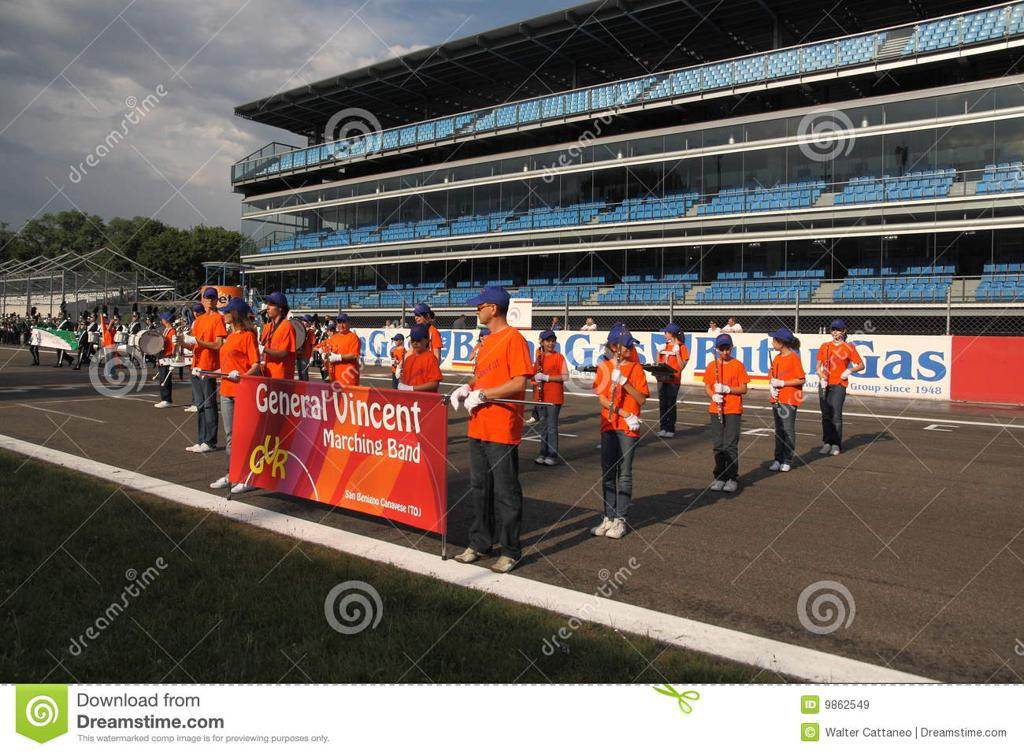face: (477, 303, 492, 324), (616, 341, 633, 358), (412, 338, 425, 353), (267, 301, 279, 317), (224, 310, 236, 324), (546, 337, 556, 352), (720, 346, 732, 358), (205, 297, 218, 308), (832, 327, 843, 339), (772, 336, 781, 350), (338, 321, 348, 333), (415, 314, 425, 324), (194, 311, 203, 320), (666, 330, 674, 340), (395, 339, 401, 347), (710, 322, 716, 328), (587, 319, 593, 325), (729, 319, 734, 325), (554, 319, 558, 324)
